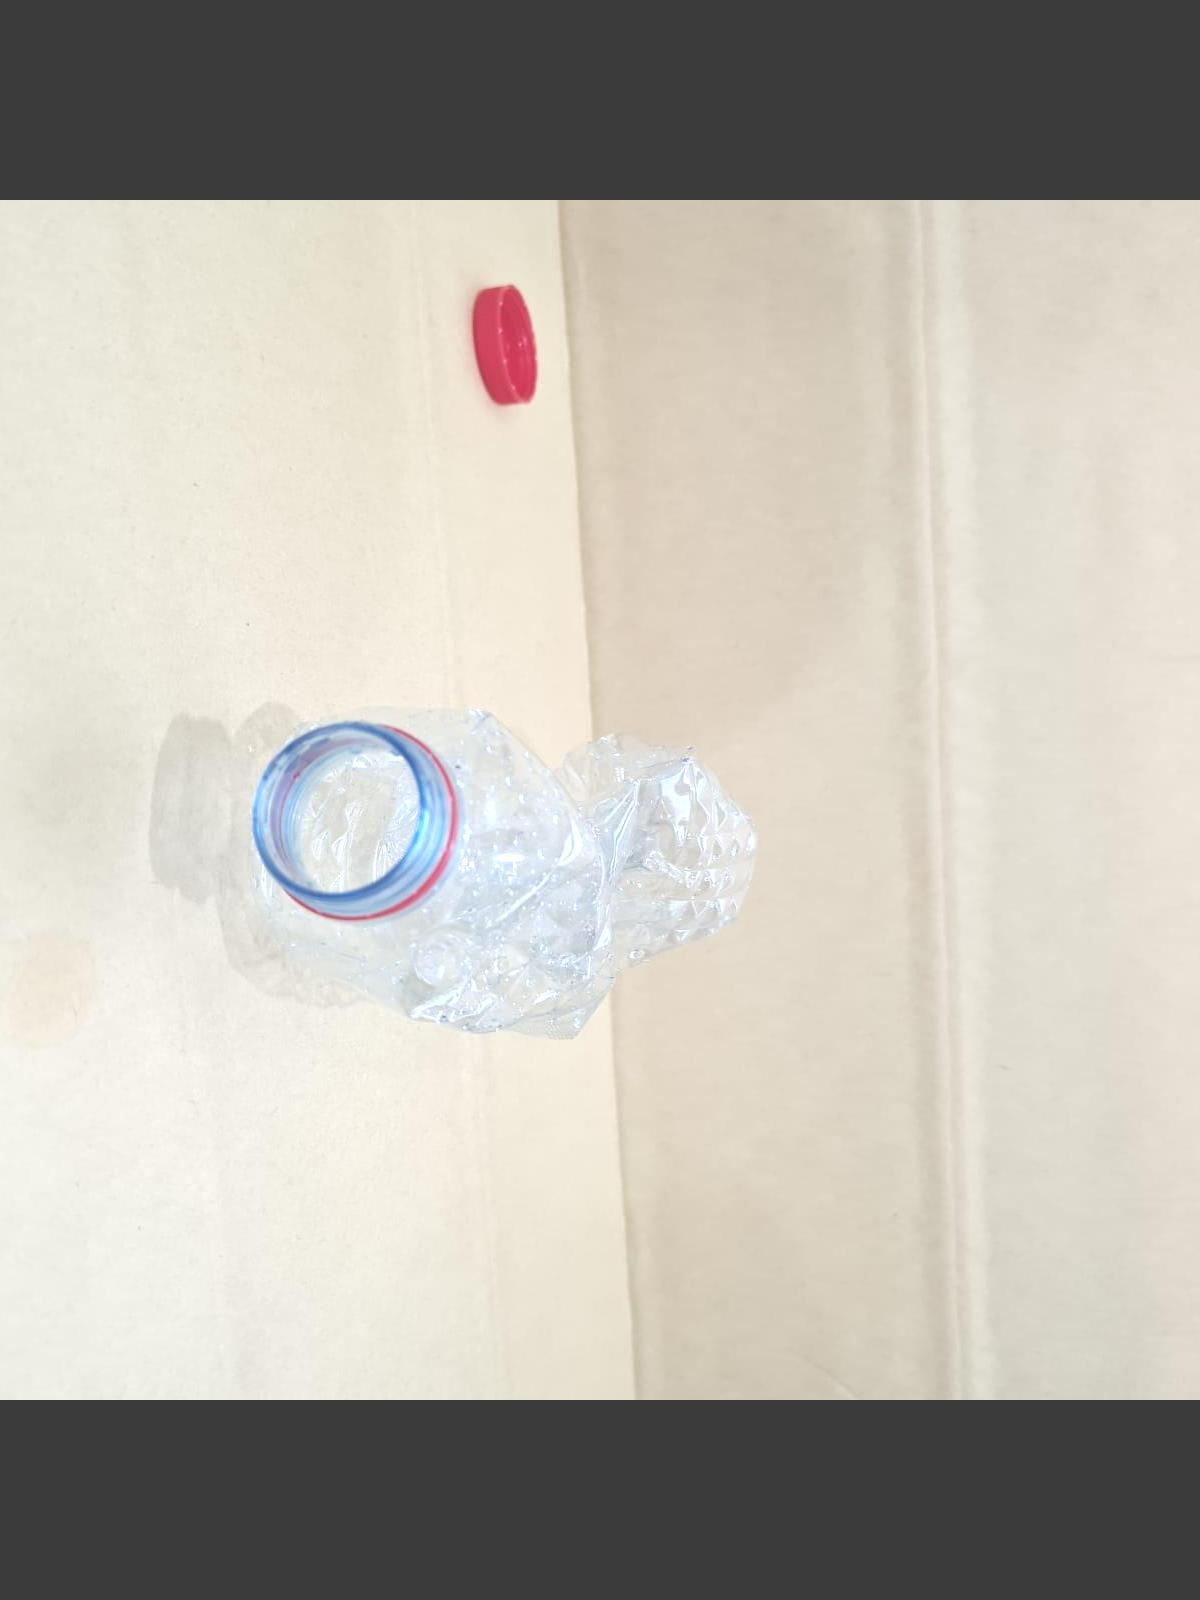bottle: (195, 704, 769, 1060)
